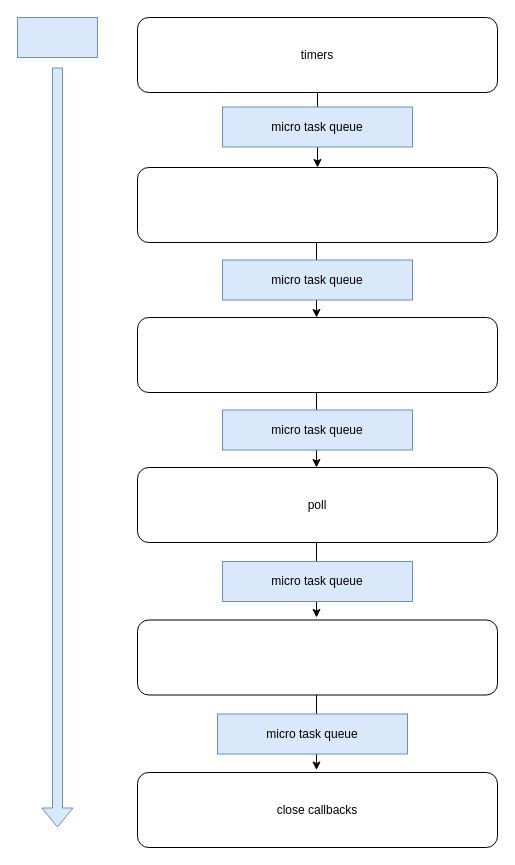
The diagram is 515 pixels wide and 865 high, and some of its shapes have lost their labels. The box of each missing label's shape, as (x1, y1, x2, y2) in pixels:
check: (136, 619, 498, 695)
I/O callbacks: (136, 166, 498, 242)
idle, prepare: (136, 316, 498, 392)
loop: (16, 16, 98, 58)
